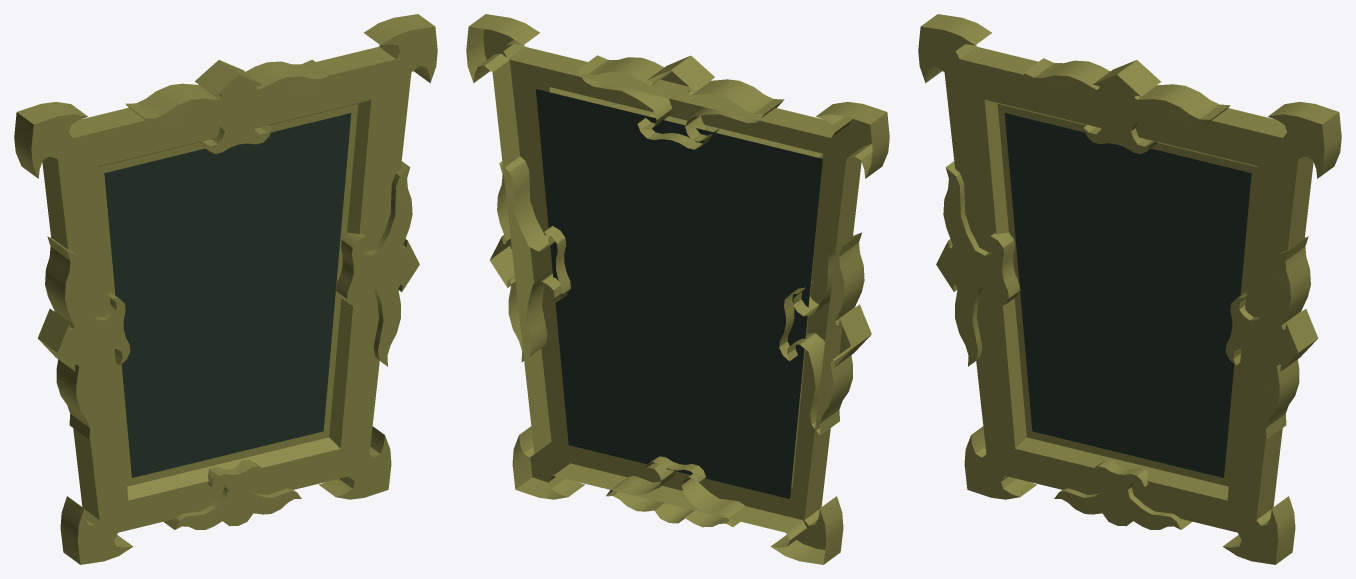
File: Painting_V4.fbx
3 views of the same model, side by side, from view 1: azimuth 30°, elevation 25°; view 2: azimuth 150°, elevation 25°; view 3: azimuth 330°, elevation 25° (orthographic).
Visible parts, largest first — view 1: Paint; view 2: Paint; view 3: Paint.
Part boxes in pixels (x1,y1,x2,y2): Paint: [14, 14, 437, 564]; Paint: [466, 14, 889, 564]; Paint: [918, 14, 1341, 564].
Size of the model in its own units: 181 by 195 by 16.78.
